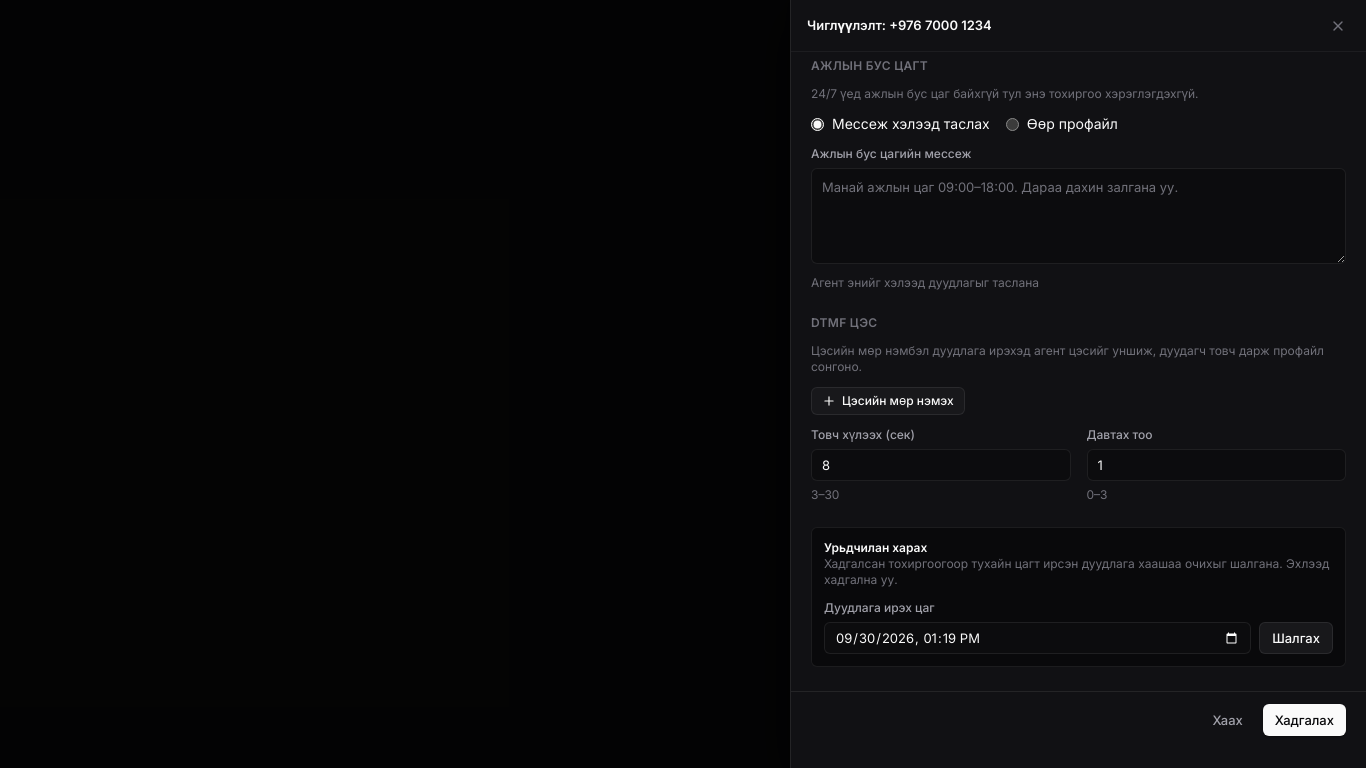
Test: RoutingEditor › previews the resolved route for a chosen time
The width and height of the screenshot is (1366, 768).
(page scrolled)
Replace the text in the field labelled "Дуудлага ирэх цаг" with "2026-10-03T22:15" at (1038, 638), box [824, 622, 1251, 654]
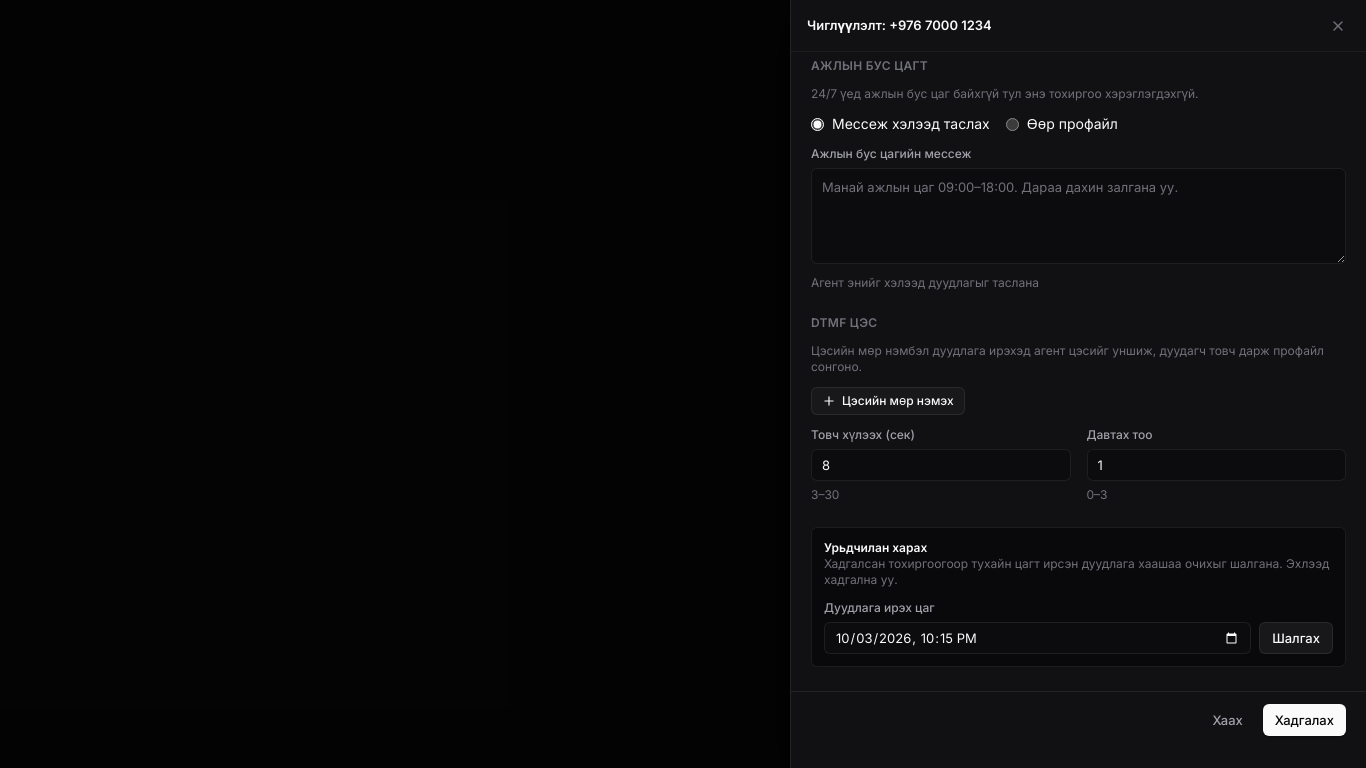
Click the button "Шалгах" at (1296, 638), box [1259, 622, 1333, 654]
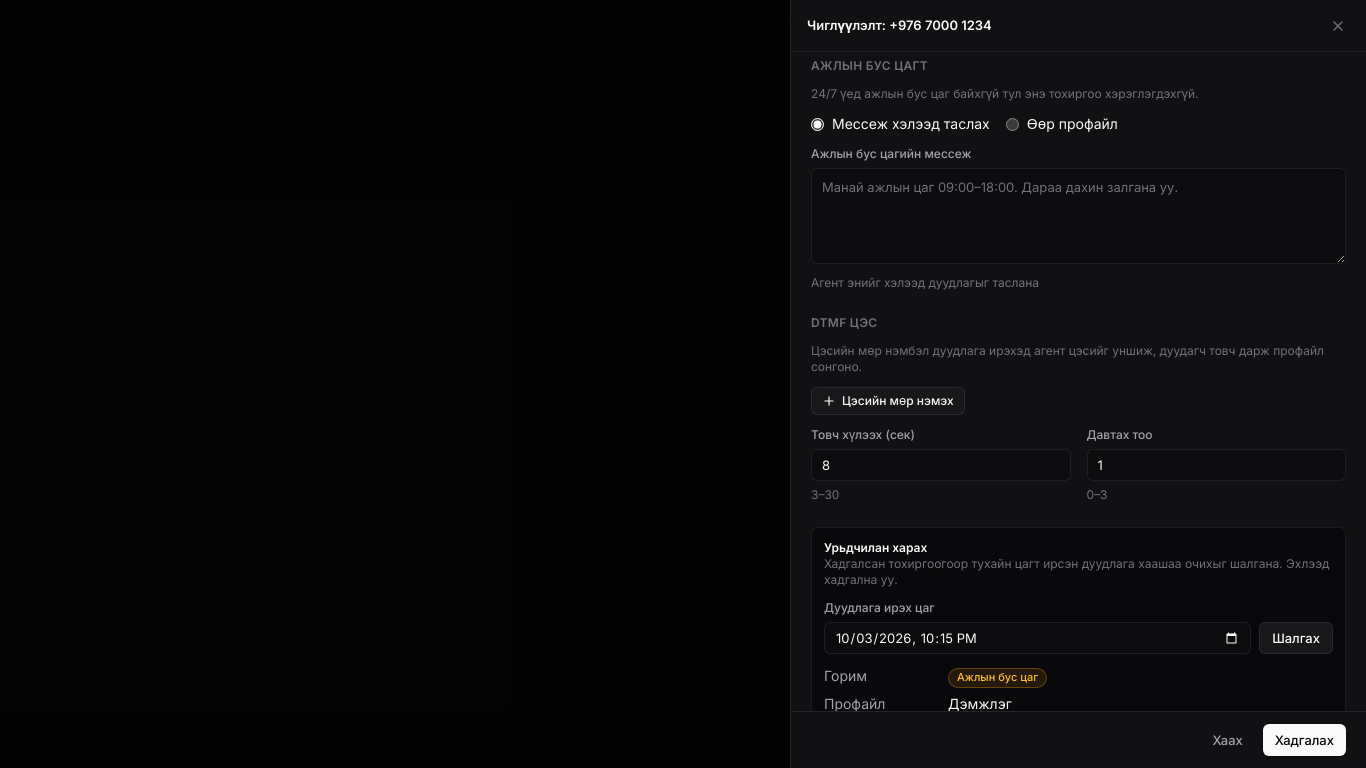
Result: the text "Ажлын бус цаг" is shown at [948, 668, 1047, 688]
Result: the text "Дэмжлэг" is shown at [948, 695, 1012, 712]
